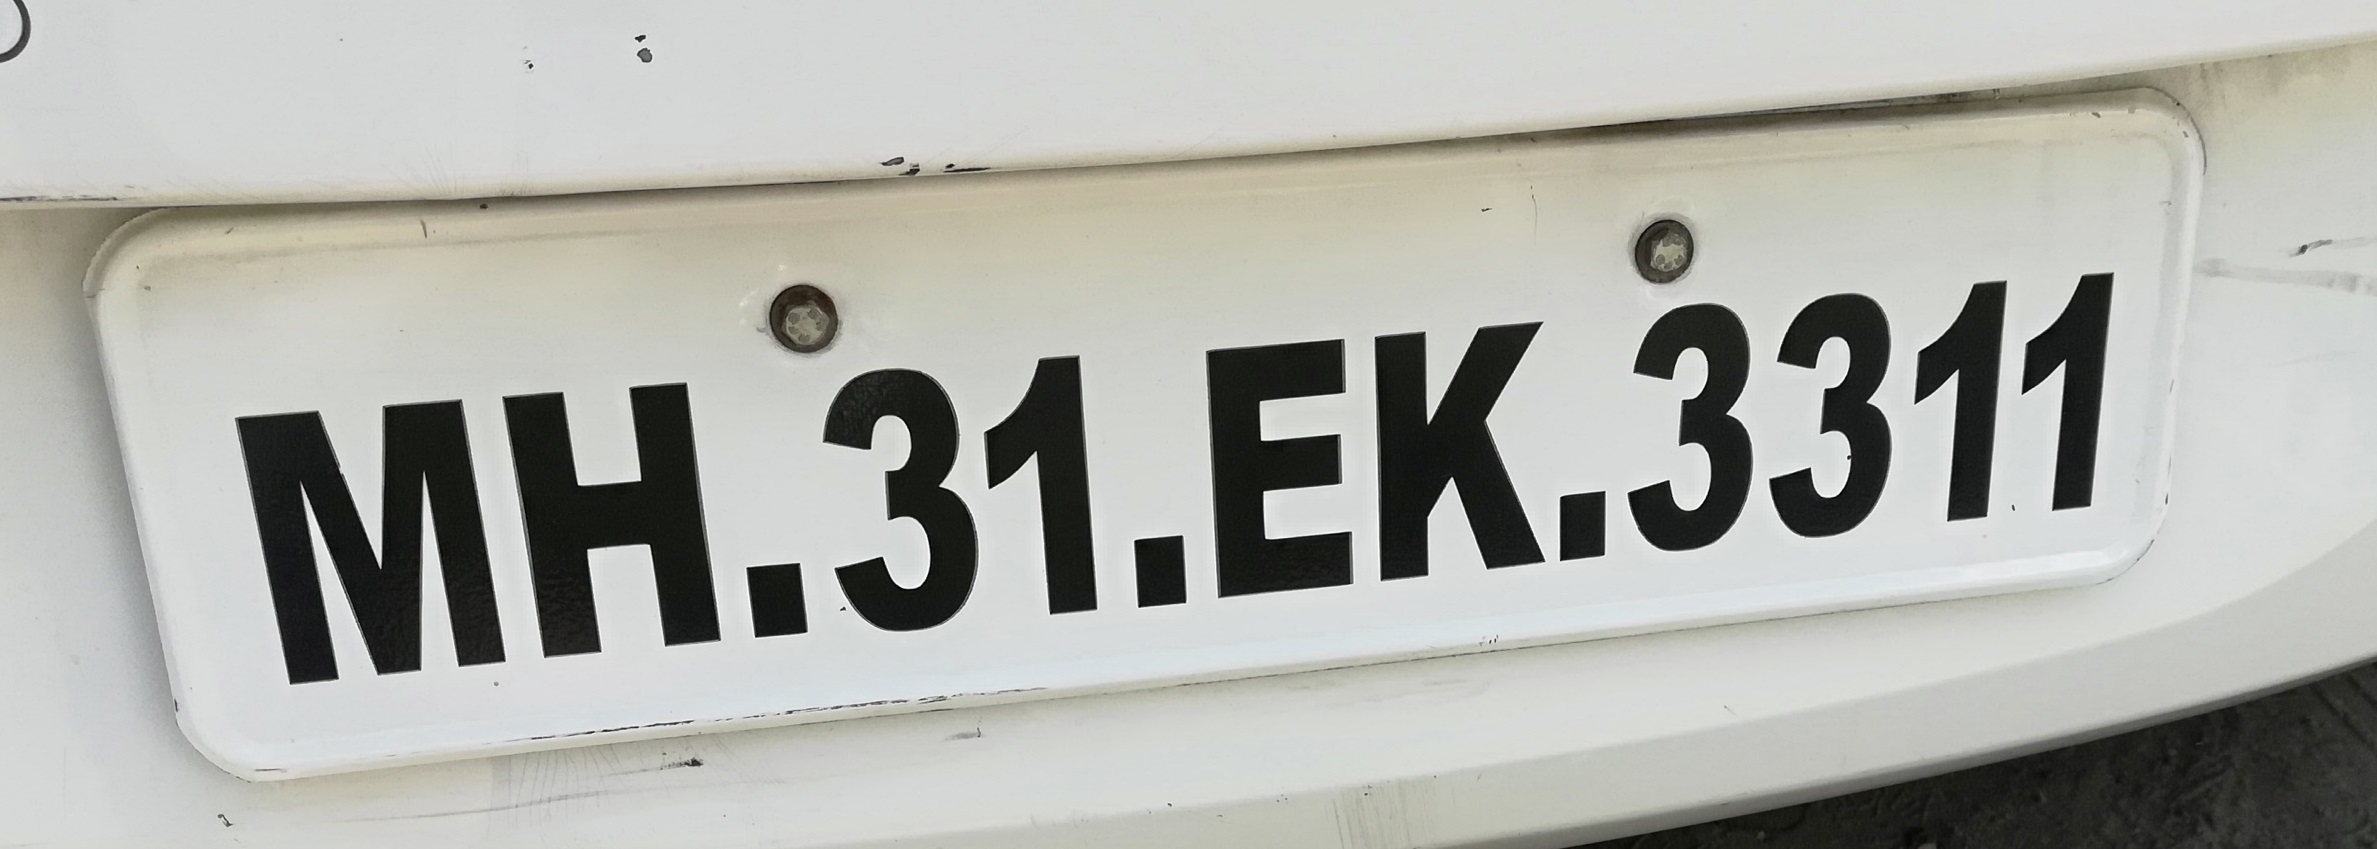numberplate: (115, 88, 2195, 791)
